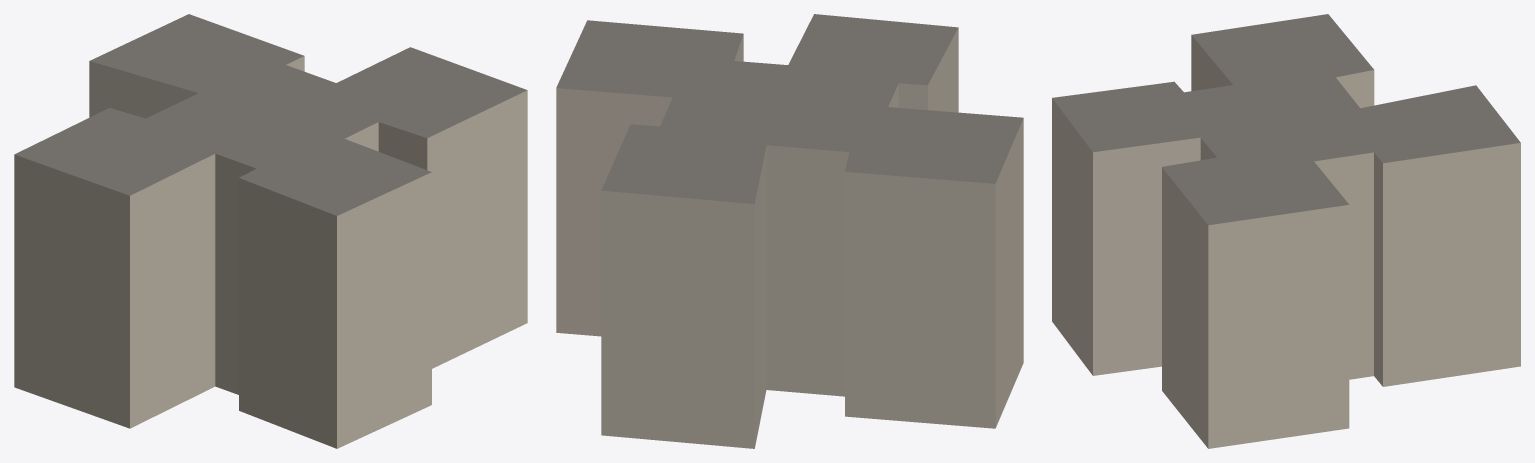
3 views of the same model, side by side, from view 1: azimuth 30°, elevation 25°; view 2: azimuth 150°, elevation 25°; view 3: azimuth 270°, elevation 25° (orthographic). The views are drawn at different scales.
Parts seen in each view (by area): view 1: HP-w1435252843; view 2: HP-w1435252843; view 3: HP-w1435252843.
Part boxes in pixels (left/top/right/bottom): HP-w1435252843: left=14, top=14, right=527, bottom=448; HP-w1435252843: left=556, top=14, right=1023, bottom=448; HP-w1435252843: left=1052, top=14, right=1520, bottom=448.
Size of the model in its own units: 36.47 by 18 by 34.19.
